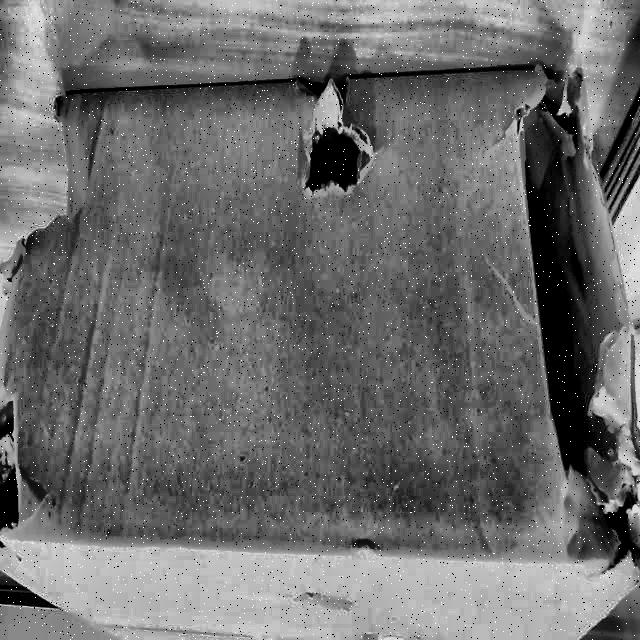box: (1, 53, 638, 640)
hole: (517, 64, 639, 576), (298, 68, 376, 205), (0, 389, 36, 555)
